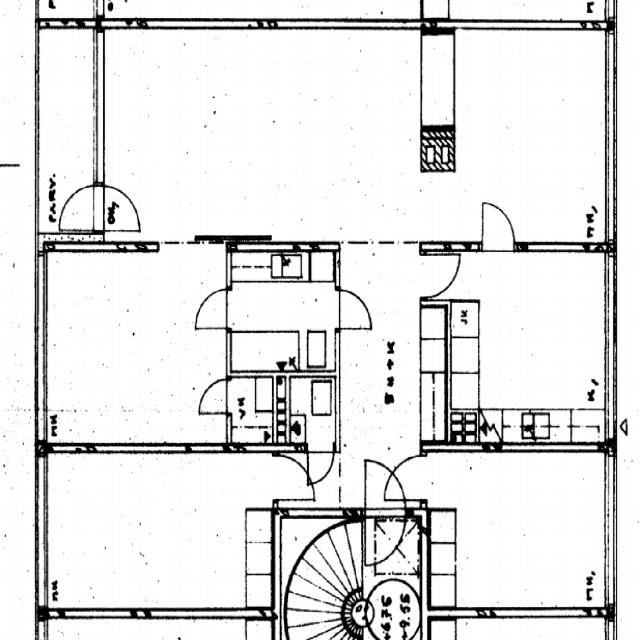door: (366, 459, 405, 516), (56, 185, 104, 231), (366, 508, 405, 564), (419, 456, 461, 499), (237, 456, 278, 499), (420, 255, 460, 296), (481, 203, 514, 251), (335, 290, 371, 328), (199, 379, 231, 412), (292, 444, 318, 484)
